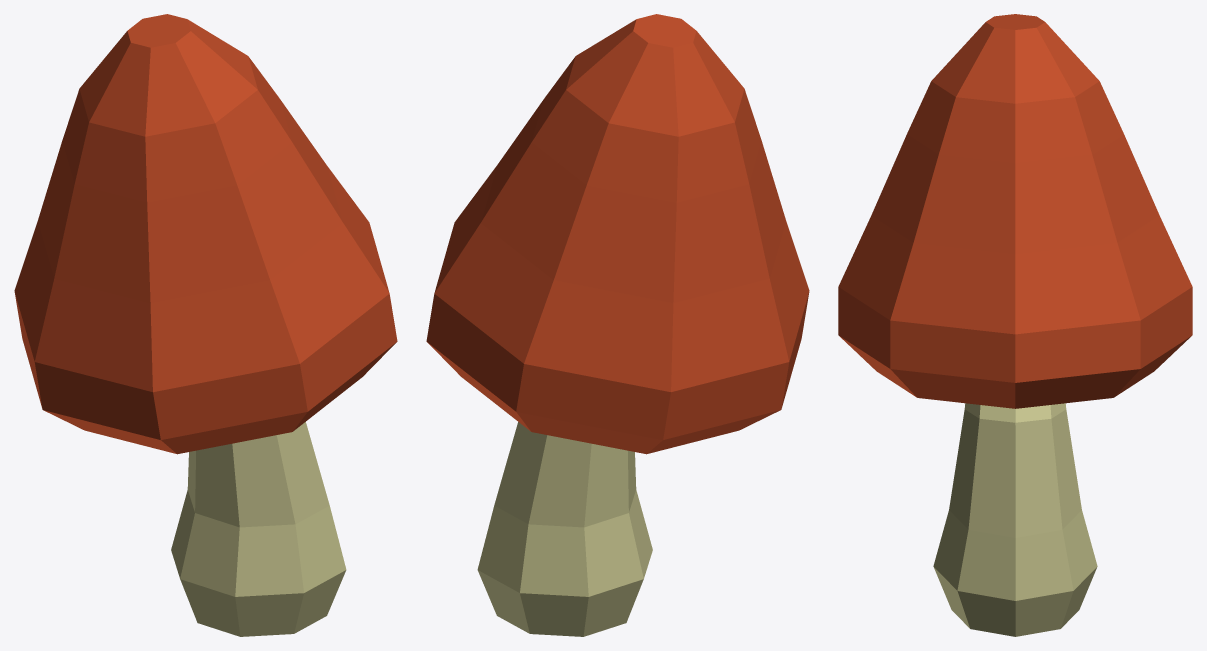
The model's file is RedMushroom2.fbx.
The picture shows the model from 3 angles, left to right: view 1: azimuth 30°, elevation 25°; view 2: azimuth 150°, elevation 25°; view 3: azimuth 270°, elevation 25°; orthographic projection. The views are drawn at different scales.
Visible parts, largest first — view 1: Circle; view 2: Circle; view 3: Circle.
Part boxes in pixels (bbox=[...]): Circle: bbox=[14, 14, 397, 636]; Circle: bbox=[426, 14, 809, 636]; Circle: bbox=[838, 14, 1192, 636].
Bounding box in the file's own units: 266 × 450 × 263.
